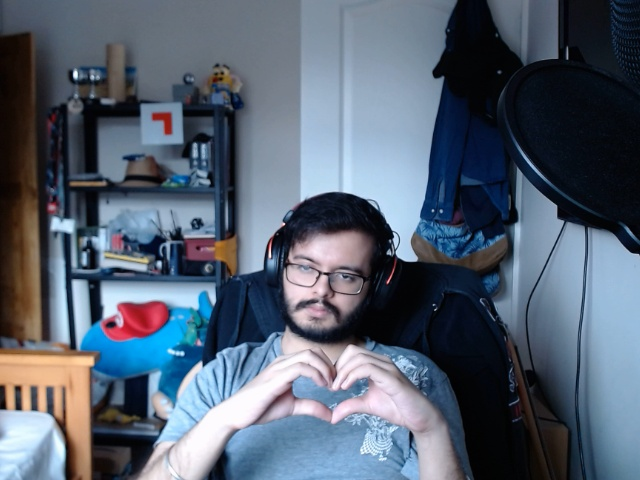Heart: (262, 347, 405, 429)
